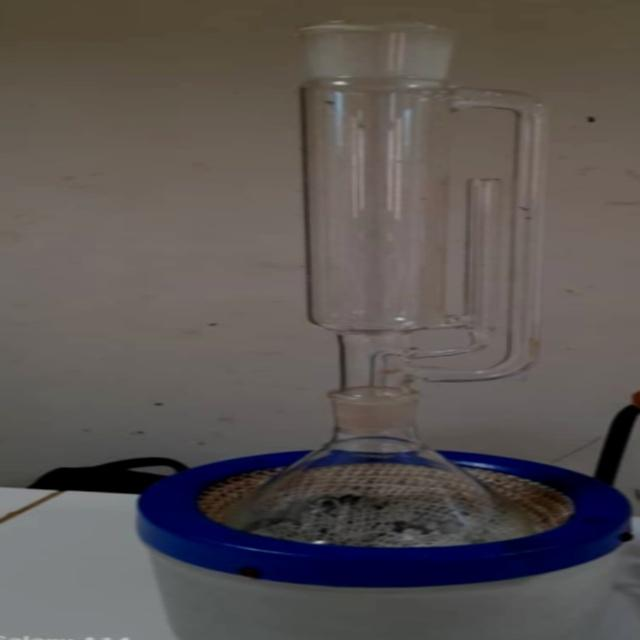Soxhlet: (225, 16, 576, 402)
